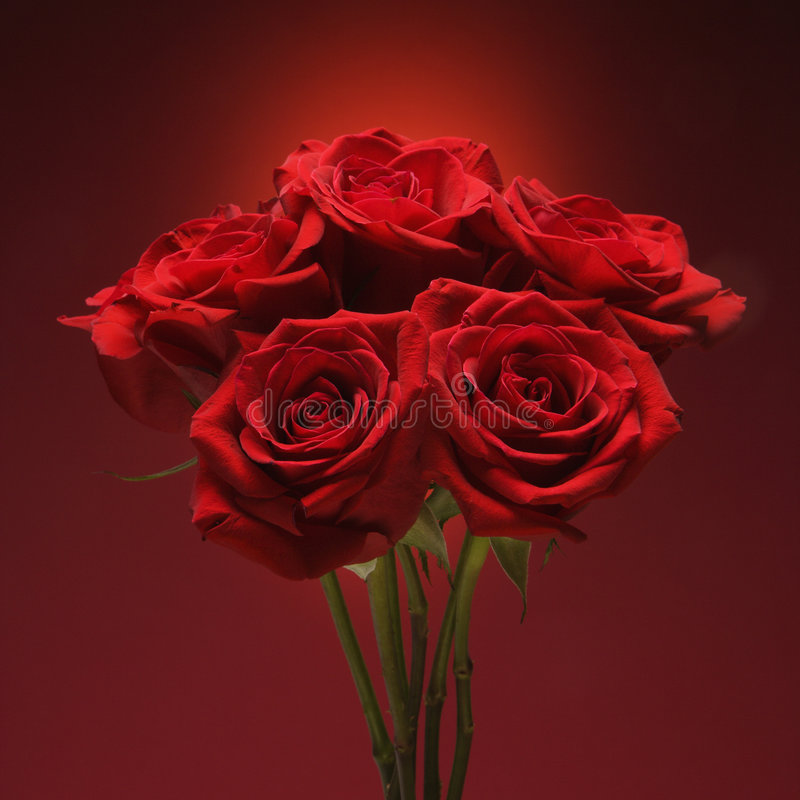RedRose: (399, 276, 689, 585), (54, 191, 346, 424), (191, 302, 421, 586), (459, 178, 749, 344), (273, 106, 514, 304)
